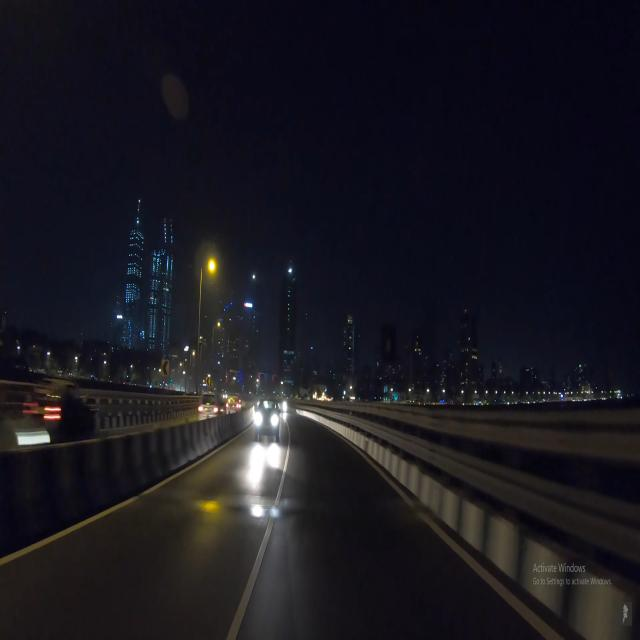headlights: (251, 409, 282, 431)
